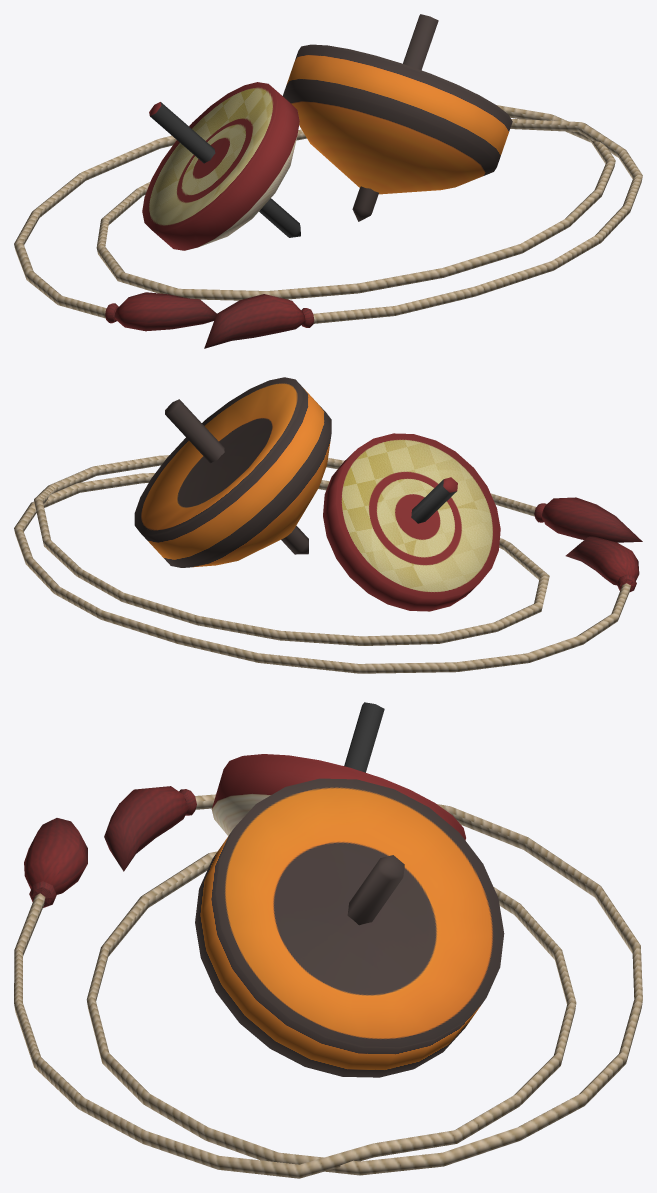
File: Koma01.fbx
3 renders of one model, top to bottom at view 1: azimuth 30°, elevation 25°; view 2: azimuth 150°, elevation 25°; view 3: azimuth 270°, elevation 25°, orthographic. The views are drawn at different scales.
Visible parts, largest first — view 1: Koma01; view 2: Koma01; view 3: Koma01.
Boxes of the visible parts, bbox=[...] form: Koma01: bbox=[14, 14, 642, 348]; Koma01: bbox=[14, 377, 642, 673]; Koma01: bbox=[14, 702, 642, 1178].
Size of the model in its own units: 39.44 by 10.97 by 27.61.
